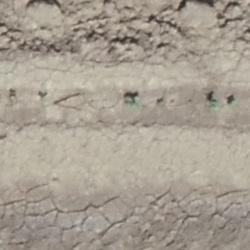cotton: (128, 99, 140, 107), (210, 100, 218, 109), (232, 98, 237, 105), (42, 94, 47, 99)
